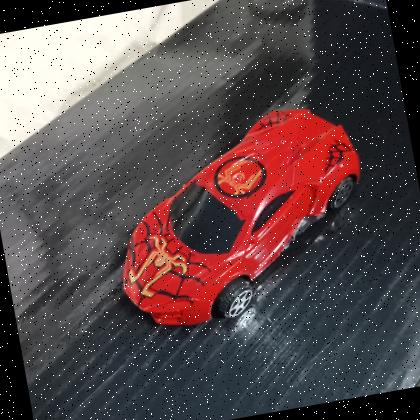Car: (89, 87, 388, 343)
